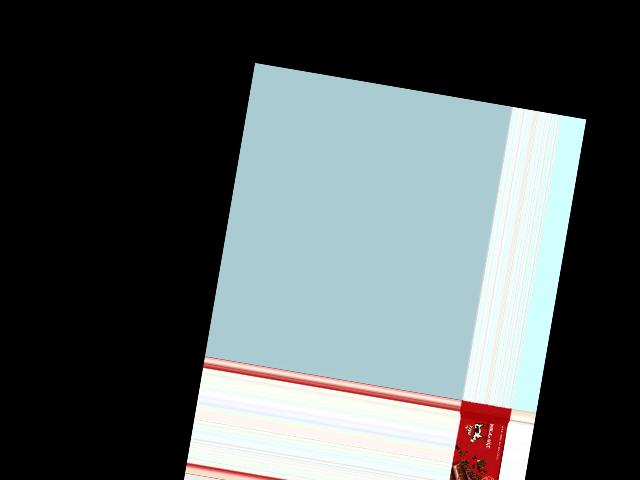chocolate: (442, 401, 512, 480)
